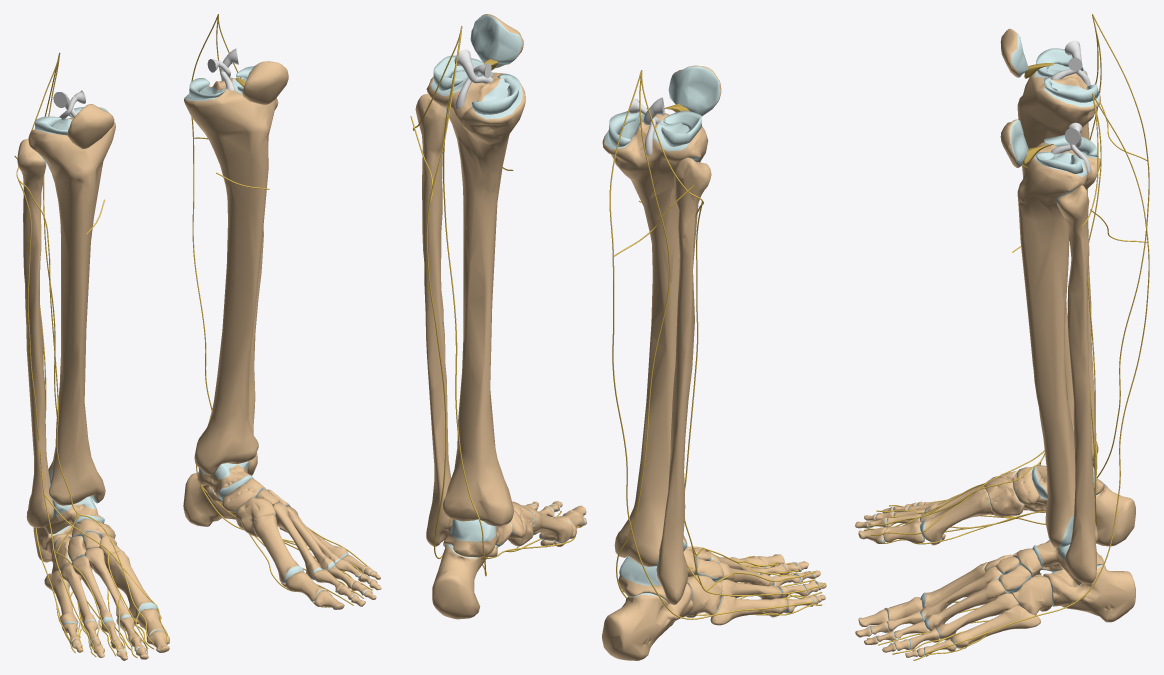
Rendered from fibulafix.fbx.
3 renders of one model, left to right at view 1: azimuth 30°, elevation 25°; view 2: azimuth 150°, elevation 25°; view 3: azimuth 270°, elevation 25°, orthographic. The views are drawn at different scales.
Visible parts, largest first — view 1: Tibia.l_Generated_Mesh_From_X3D.001, Tibia.r_Cone.001, Fibula.r_Cone.001, Calcaneus.l_Generated_Mesh_From_X3D.001, Patella.l_Generated_Mesh_From_X3D.001, 1st_metatarsal_bone.l_Generated_Mesh_From_X3D.001, Patella.r_Generated_Mesh_From_X3D.001, 1st_metatarsal_bone.r_Generated_Mesh_From_X3D.001, Talus.l_Generated_Mesh_From_X3D.001, Talus.r_Generated_Mesh_From_X3D.001, Fibula.l_Generated_Mesh_From_X3D.001, 2d_metatarsal_bone.l_Generated_Mesh_From_X3D.001 (+12 smaller); view 2: Tibia.l_Generated_Mesh_From_X3D.001, Tibia.r_Cone.001, Fibula.r_Cone.001, Fibula.l_Generated_Mesh_From_X3D.001, Calcaneus.r_Generated_Mesh_From_X3D.001, Calcaneus.l_Generated_Mesh_From_X3D.001, Patella.r_Generated_Mesh_From_X3D.001, Patella.l_Generated_Mesh_From_X3D.001, Talus.l_Generated_Mesh_From_X3D.001, 5th_metatarsal_bone.r_Generated_Mesh_From_X3D.001, Talus.r_Generated_Mesh_From_X3D.001, Sural_nerve.r_BezierCurve.376 (+12 smaller); view 3: Tibia.l_Generated_Mesh_From_X3D.001, Fibula.l_Generated_Mesh_From_X3D.001, Tibia.r_Cone.001, Calcaneus.l_Generated_Mesh_From_X3D.001, Calcaneus.r_Generated_Mesh_From_X3D.001, 1st_metatarsal_bone.r_Generated_Mesh_From_X3D.001, 5th_metatarsal_bone.l_Generated_Mesh_From_X3D.001, Sural_nerve.l_BezierCurve.376, 3rd_metatarsal_bone.l_Generated_Mesh_From_X3D.001, 4th_metatarsal_bone.l_Generated_Mesh_From_X3D.001, Cuboid_bone.l_Generated_Mesh_From_X3D.001, Medial_cuneiform_bone.r_Generated_Mesh_From_X3D.001 (+19 smaller).
Part boxes in pixels (box(x1,y1,x2,y2)): Tibia.l_Generated_Mesh_From_X3D.001: box(184, 77, 276, 475); Tibia.r_Cone.001: box(28, 117, 115, 505); Fibula.r_Cone.001: box(17, 138, 54, 527); Calcaneus.l_Generated_Mesh_From_X3D.001: box(183, 473, 235, 526); Patella.l_Generated_Mesh_From_X3D.001: box(242, 61, 288, 104); 1st_metatarsal_bone.l_Generated_Mesh_From_X3D.001: box(253, 515, 303, 583); Patella.r_Generated_Mesh_From_X3D.001: box(67, 104, 114, 148); 1st_metatarsal_bone.r_Generated_Mesh_From_X3D.001: box(105, 550, 157, 619); Talus.l_Generated_Mesh_From_X3D.001: box(197, 461, 253, 500); Talus.r_Generated_Mesh_From_X3D.001: box(44, 496, 104, 534); Fibula.l_Generated_Mesh_From_X3D.001: box(247, 99, 278, 475); 2d_metatarsal_bone.l_Generated_Mesh_From_X3D.001: box(273, 502, 322, 580); Tibia.l_Generated_Mesh_From_X3D.001: box(426, 71, 525, 526); Tibia.r_Cone.001: box(602, 113, 708, 566); Fibula.r_Cone.001: box(656, 157, 711, 604); Fibula.l_Generated_Mesh_From_X3D.001: box(415, 94, 452, 546); Calcaneus.r_Generated_Mesh_From_X3D.001: box(602, 583, 692, 660); Calcaneus.l_Generated_Mesh_From_X3D.001: box(432, 544, 497, 619); Patella.r_Generated_Mesh_From_X3D.001: box(668, 65, 721, 116); Patella.l_Generated_Mesh_From_X3D.001: box(470, 14, 523, 68); Talus.l_Generated_Mesh_From_X3D.001: box(443, 519, 512, 557); 5th_metatarsal_bone.r_Generated_Mesh_From_X3D.001: box(710, 595, 788, 625); Talus.r_Generated_Mesh_From_X3D.001: box(618, 556, 669, 603); Sural_nerve.r_BezierCurve.376: box(609, 177, 813, 619); Tibia.l_Generated_Mesh_From_X3D.001: box(1017, 142, 1100, 547); Fibula.l_Generated_Mesh_From_X3D.001: box(1056, 185, 1096, 584); Tibia.r_Cone.001: box(1017, 63, 1100, 461); Calcaneus.l_Generated_Mesh_From_X3D.001: box(1043, 564, 1135, 622); Calcaneus.r_Generated_Mesh_From_X3D.001: box(1094, 481, 1135, 546); 1st_metatarsal_bone.r_Generated_Mesh_From_X3D.001: box(920, 487, 993, 541); 5th_metatarsal_bone.l_Generated_Mesh_From_X3D.001: box(950, 605, 1040, 648); Sural_nerve.l_BezierCurve.376: box(926, 174, 1149, 653); 3rd_metatarsal_bone.l_Generated_Mesh_From_X3D.001: box(924, 579, 1006, 630); 4th_metatarsal_bone.l_Generated_Mesh_From_X3D.001: box(936, 593, 1018, 640); Cuboid_bone.l_Generated_Mesh_From_X3D.001: box(1012, 574, 1052, 615); Medial_cuneiform_bone.r_Generated_Mesh_From_X3D.001: box(984, 477, 1024, 517).
Size of the model in its own units: 8.69 by 14.18 by 7.12.
